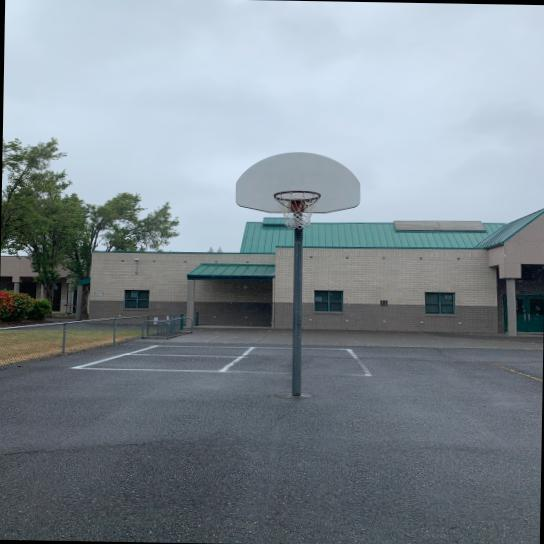basketball-hoop: (271, 189, 322, 230)
